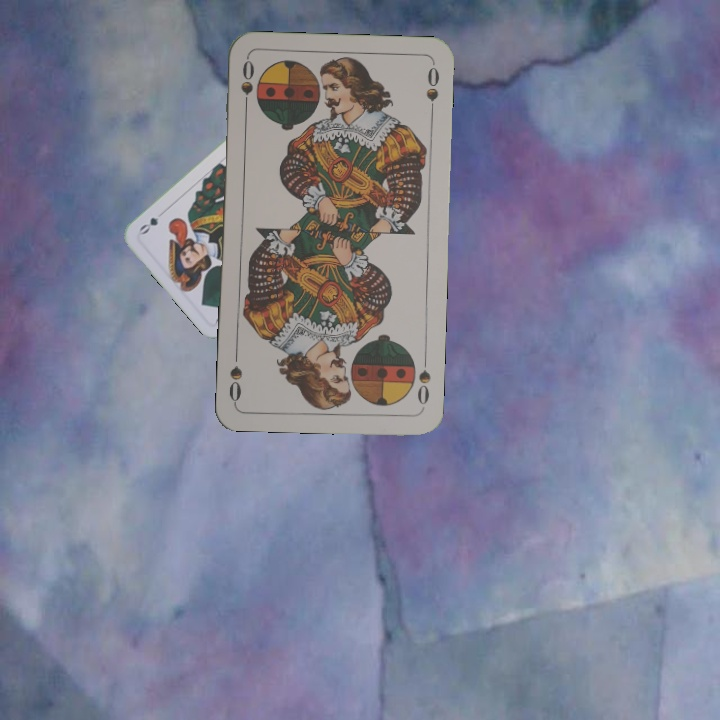SO: (237, 56, 257, 115), (413, 351, 433, 410)
